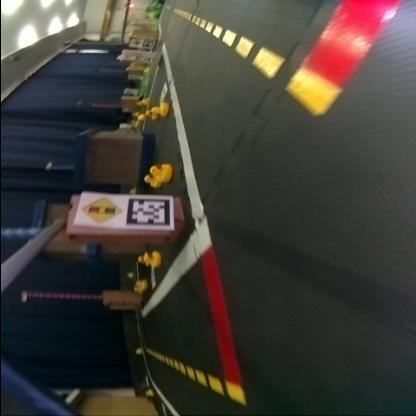Duckie: (149, 162, 170, 181), (142, 250, 158, 264), (145, 174, 159, 188), (152, 102, 166, 115), (134, 280, 146, 289), (144, 110, 154, 120)
QR code: (127, 195, 169, 229), (158, 82, 166, 104)
Signal sign: (77, 194, 121, 228)
